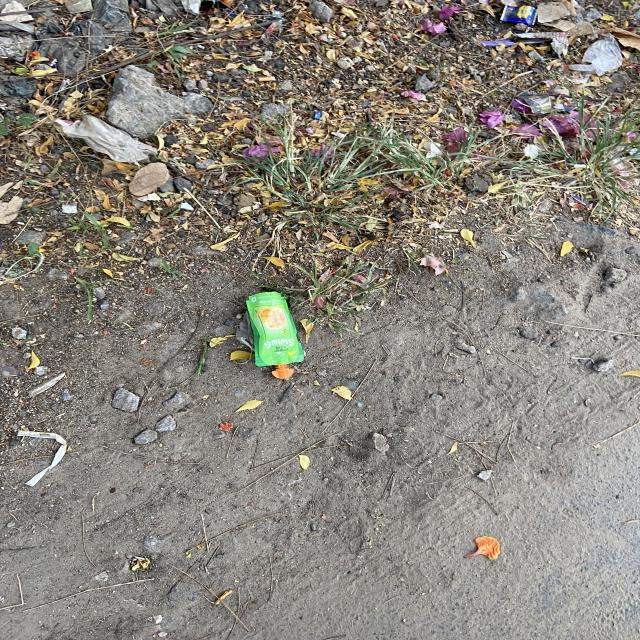giay_goi: (501, 4, 537, 24)
goi_nhua_nho: (246, 292, 304, 379), (61, 114, 156, 163)
nhua: (570, 33, 624, 75)
